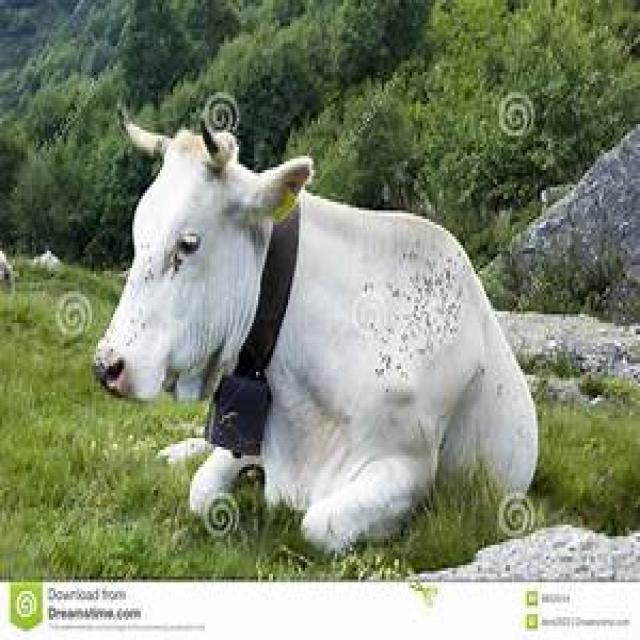cow: (96, 95, 538, 550)
